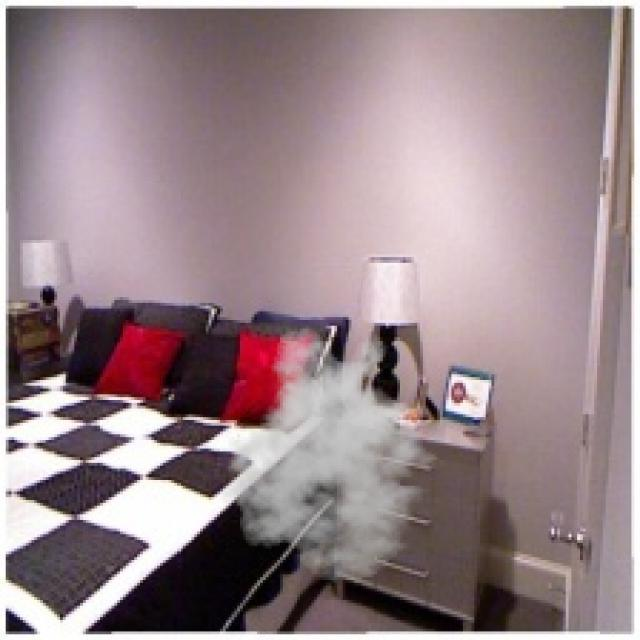Smoke: (214, 326, 449, 583)
